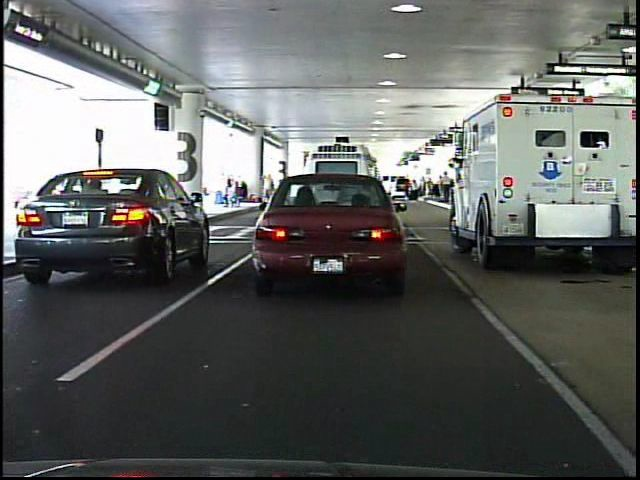person: (259, 171, 276, 206)
